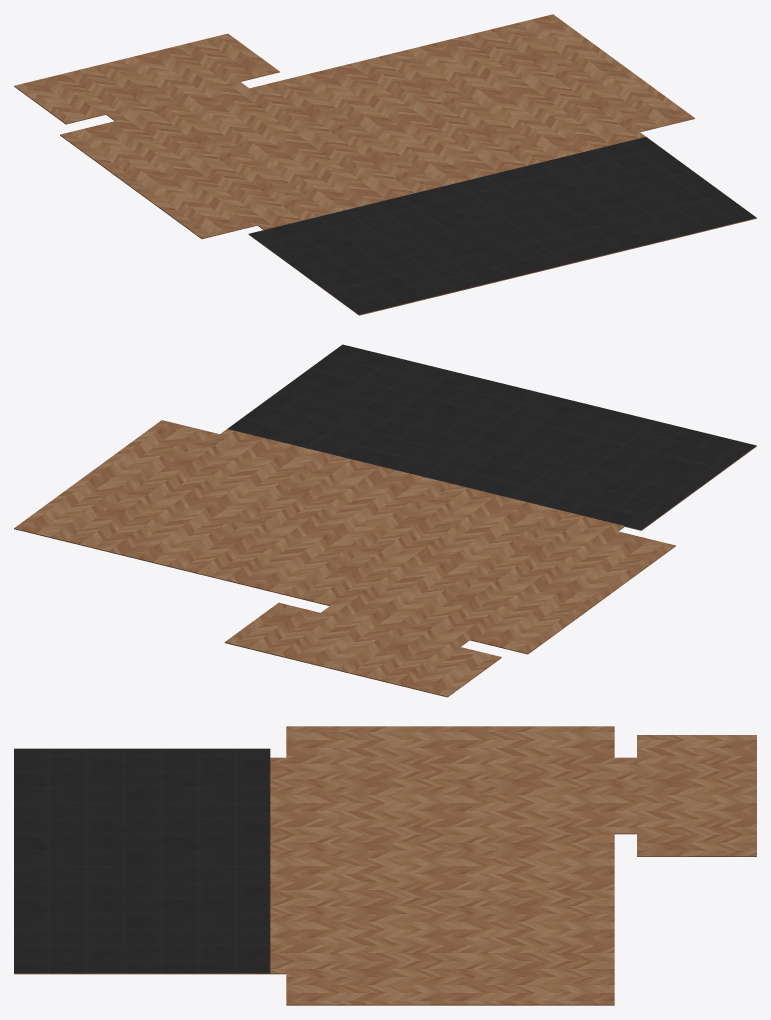
The model's file is CR04_Floor.FBX.
The picture shows the model from 3 angles, top to bottom: view 1: azimuth 30°, elevation 25°; view 2: azimuth 150°, elevation 25°; view 3: azimuth 270°, elevation 25°; orthographic projection. The views are drawn at different scales.
Parts seen in each view (by area): view 1: CR04_Floor; view 2: CR04_Floor; view 3: CR04_Floor.
Boxes of the visible parts, x1=… form: CR04_Floor: x1=14, y1=14, x2=756, y2=315; CR04_Floor: x1=14, y1=344, x2=756, y2=697; CR04_Floor: x1=14, y1=726, x2=756, y2=1005.
Size of the model in its own units: 8229 by 13.39 by 9277.
